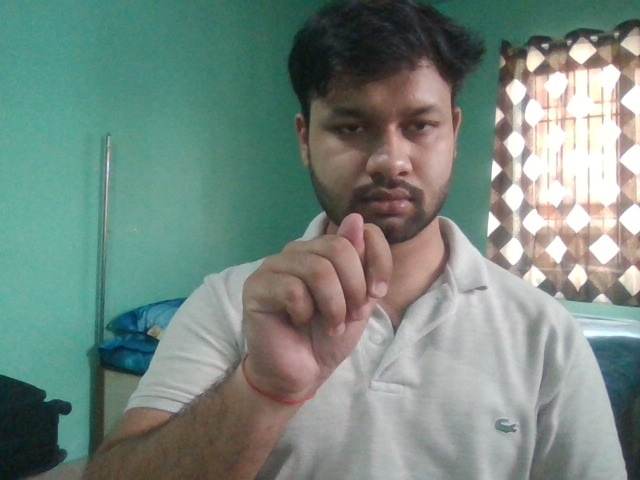Bathroom: (237, 210, 395, 382)
